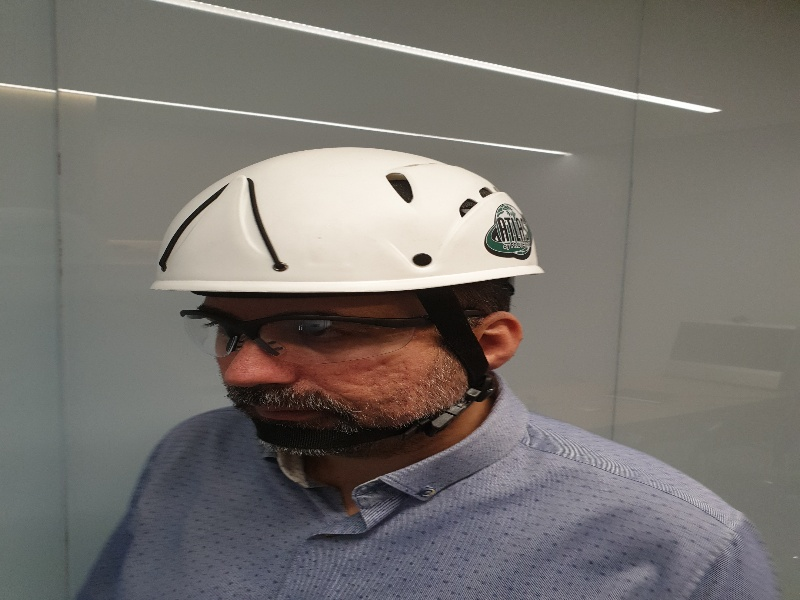Baret: (154, 147, 546, 288)
Gozluk: (177, 306, 489, 369)
